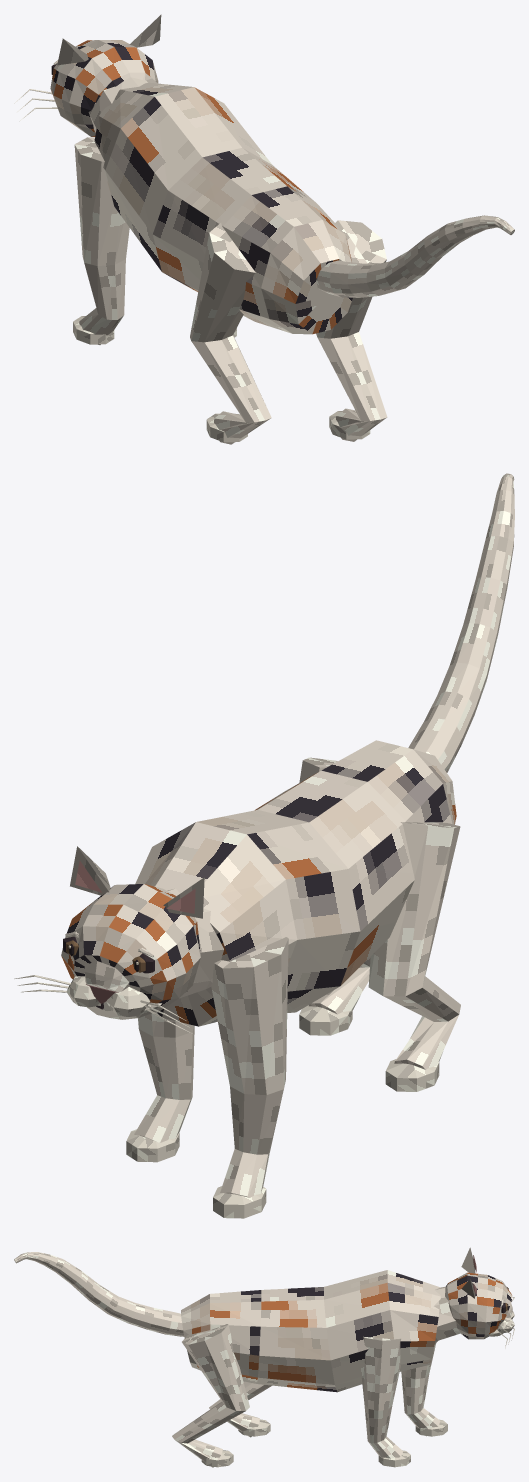
File: mon_cat_calico.glb
3 renders of one model, top to bottom at view 1: azimuth 30°, elevation 25°; view 2: azimuth 150°, elevation 25°; view 3: azimuth 270°, elevation 25°, orthographic. The views are drawn at different scales.
Visible parts, largest first — view 1: closed_body; view 2: closed_body; view 3: closed_body.
Part boxes in pixels (x1,y1,x2,y2): closed_body: (14, 14, 514, 444); closed_body: (14, 473, 514, 1218); closed_body: (14, 1247, 514, 1467).
Size of the model in its own units: 0.1762 by 0.3912 by 0.8224.
1 material, 1 textured.
